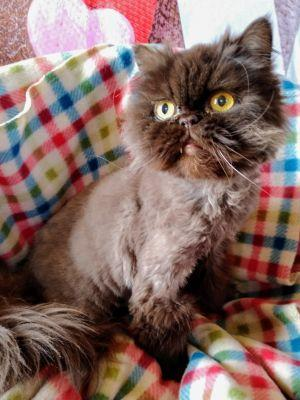persian: (119, 18, 285, 194)
